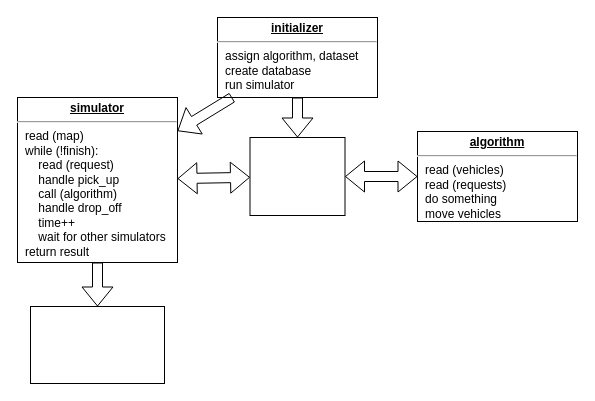
Some shapes in this 595 by 401 pixel diagram are drawn without their labels. The box of each missing label's shape, as (x1, y1, x2, y2) in pixels:
analyzer merge result output step_analyze output result_analyze: (30, 306, 164, 384)
database requests social network vehicles: (249, 136, 345, 216)
